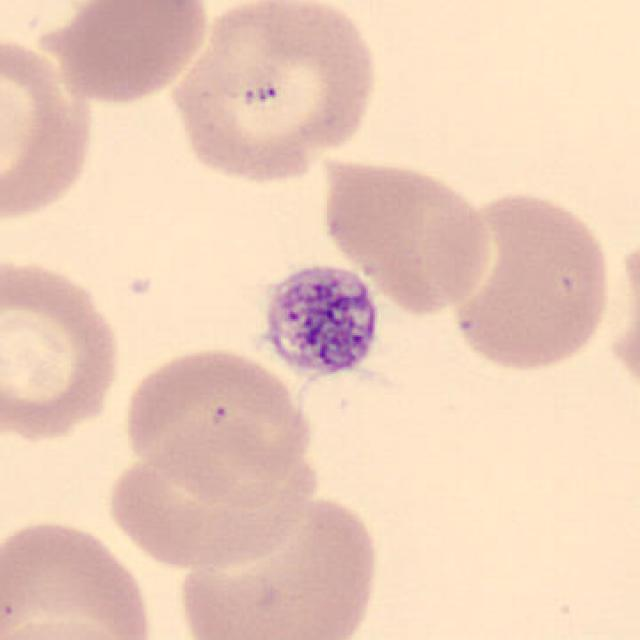Platelets: (249, 256, 384, 392)
RBC: (165, 0, 386, 189), (100, 428, 322, 576), (441, 187, 615, 375), (174, 488, 386, 640), (118, 342, 318, 499), (316, 152, 498, 317), (0, 250, 128, 446), (0, 28, 101, 227), (0, 513, 158, 640), (39, 0, 215, 108), (2, 612, 138, 640)
